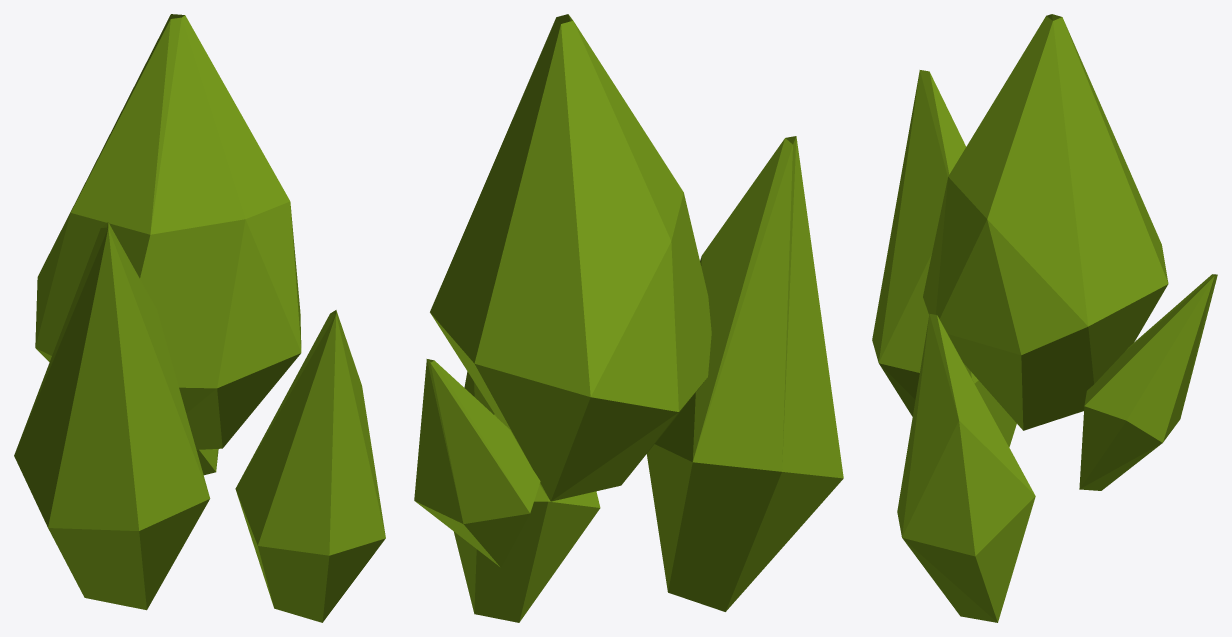
File: tree-summer-leaves-006.glb
3 views of the same model, side by side, from view 1: azimuth 30°, elevation 25°; view 2: azimuth 150°, elevation 25°; view 3: azimuth 270°, elevation 25° (orthographic). The views are drawn at different scales.
Visible parts, largest first — view 1: Circle.009_227; view 2: Circle.009_227; view 3: Circle.009_227.
Boxes of the visible parts, left/top/right/bottom form: Circle.009_227: left=14, top=14, right=385, bottom=622; Circle.009_227: left=414, top=14, right=843, bottom=622; Circle.009_227: left=872, top=14, right=1217, bottom=622.
Bounding box in the file's own units: 0.7417 × 1.23 × 0.6911.
